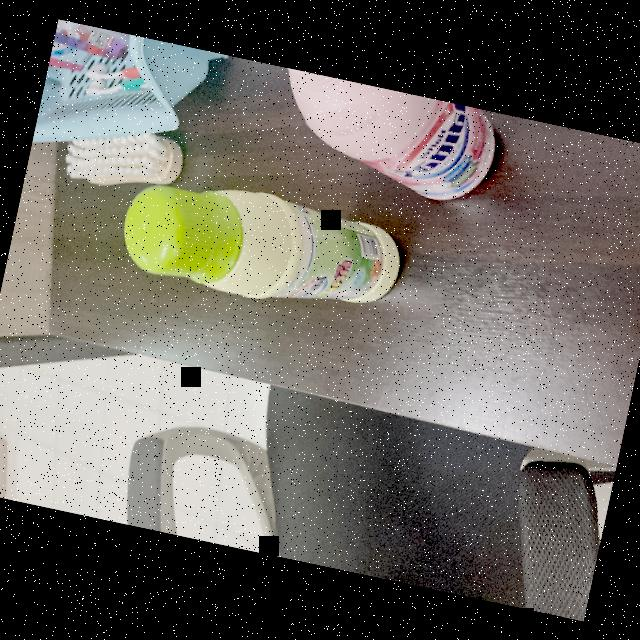chemical_plastic_bottle: (110, 160, 408, 330), (260, 67, 502, 217)
